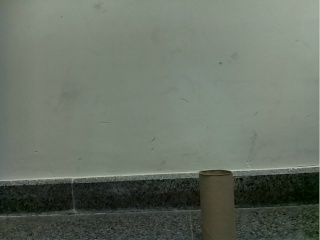rollo papel: (199, 170, 235, 240)
